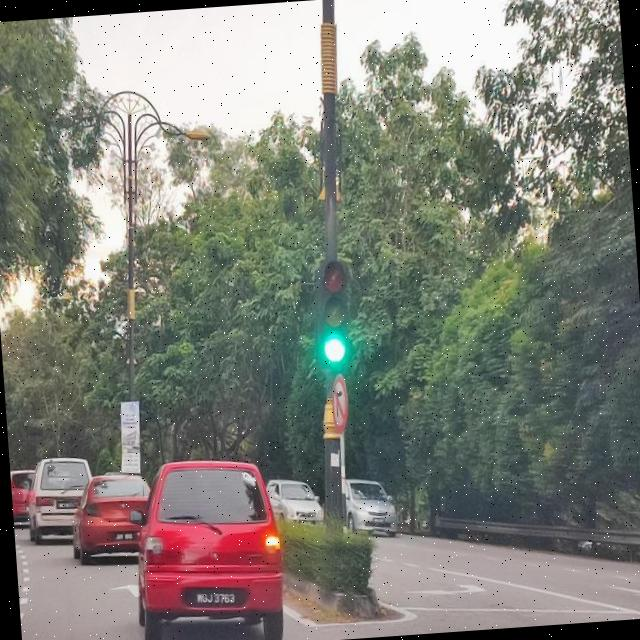green_light: (312, 260, 354, 370)
